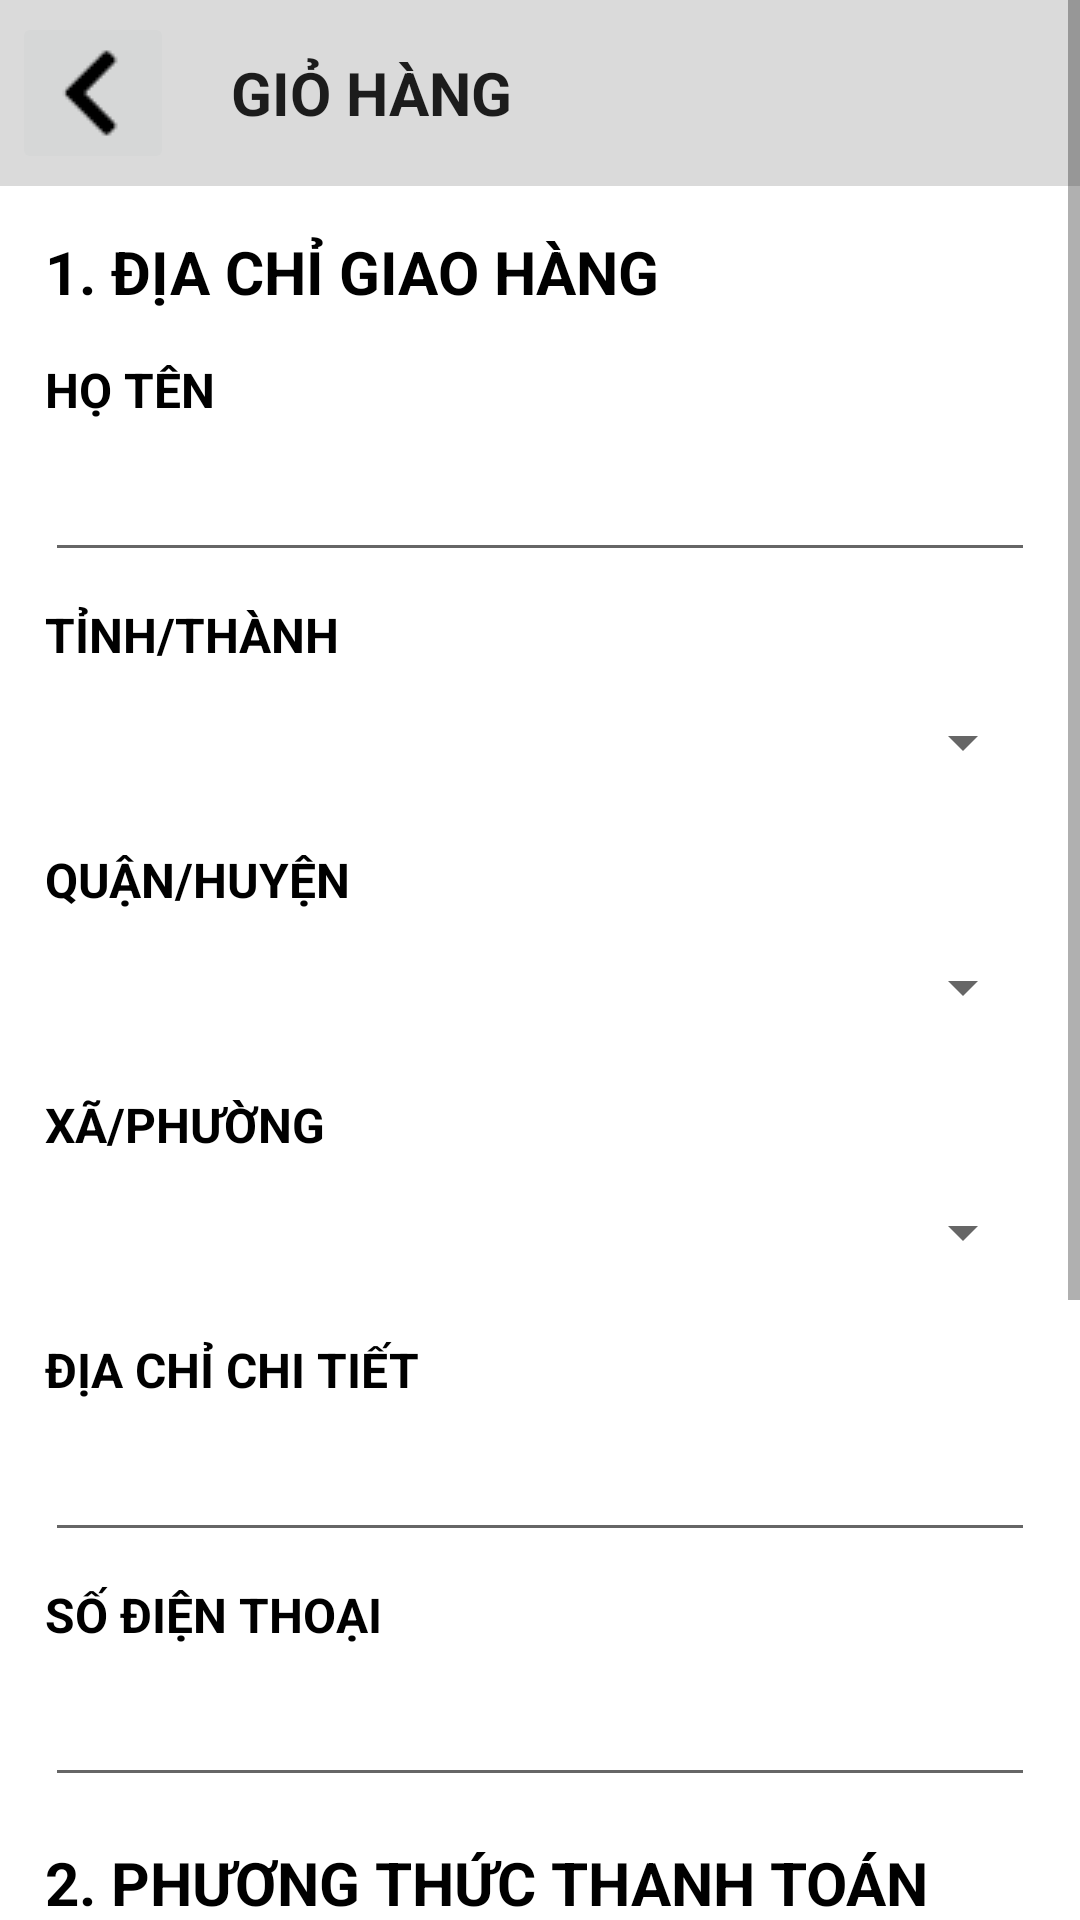

Named icons in this screenshot (1080 × 1920) and their centers, [x,y]:
Comeback to main store: [91,93]
